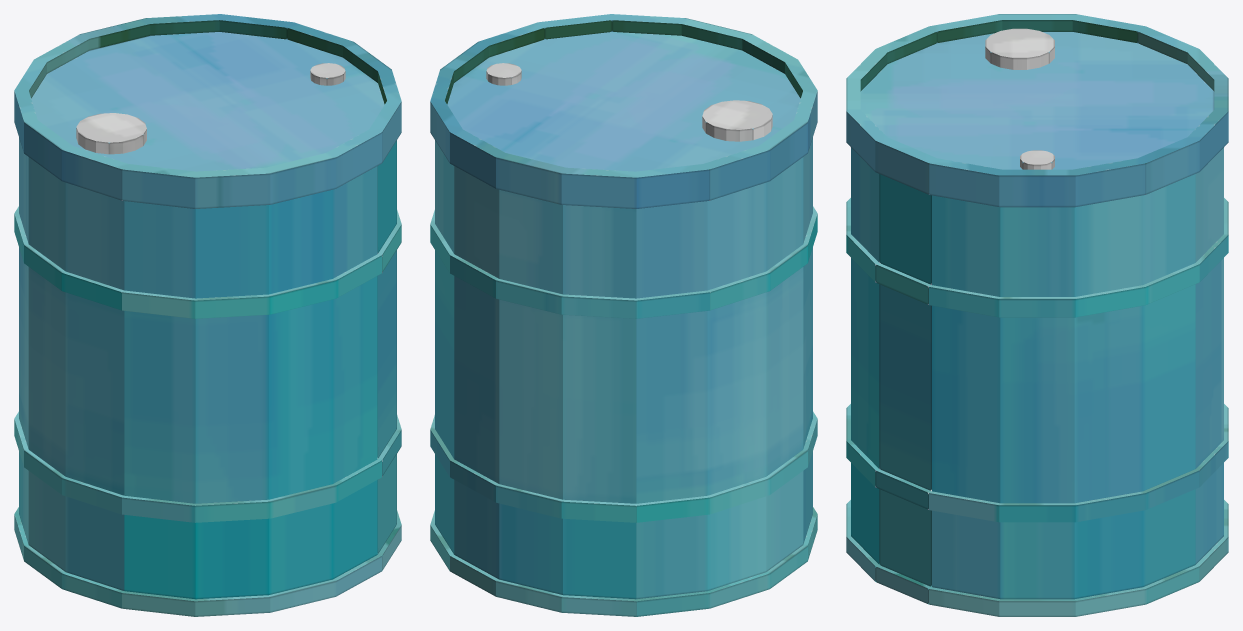
File: OilDrum_1.fbx
3 renders of one model, left to right at view 1: azimuth 30°, elevation 25°; view 2: azimuth 150°, elevation 25°; view 3: azimuth 270°, elevation 25°, orthographic.
Visible parts, largest first — view 1: cylinder_1, cylinder_3, cylinder_2, cylinder, cylinder_4, cylinder_5; view 2: cylinder_1, cylinder_3, cylinder_2, cylinder, cylinder_4, cylinder_5; view 3: cylinder_1, cylinder_3, cylinder_2, cylinder, cylinder_4, cylinder_5.
Part boxes in pixels (box(x1,y1,x2,y2)): cylinder_1: box(14, 247, 401, 522); cylinder_3: box(14, 14, 401, 208); cylinder_2: box(14, 138, 401, 318); cylinder: box(14, 451, 401, 616); cylinder_4: box(76, 113, 146, 154); cylinder_5: box(310, 63, 345, 85); cylinder_1: box(430, 247, 817, 522); cylinder_3: box(430, 14, 817, 208); cylinder_2: box(430, 138, 817, 318); cylinder: box(430, 451, 817, 616); cylinder_4: box(702, 100, 772, 141); cylinder_5: box(486, 63, 521, 85); cylinder_1: box(846, 258, 1228, 522); cylinder_3: box(846, 14, 1228, 207); cylinder_2: box(846, 148, 1228, 317); cylinder: box(846, 463, 1228, 616); cylinder_4: box(985, 28, 1054, 69); cylinder_5: box(1020, 150, 1054, 169).
Bounding box in the file's own units: 138 × 175 × 138.
1 material, 1 textured.
